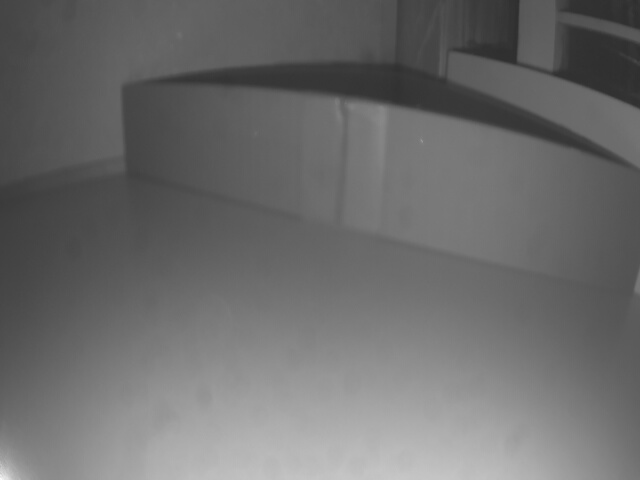Point: (120, 79, 632, 296)
